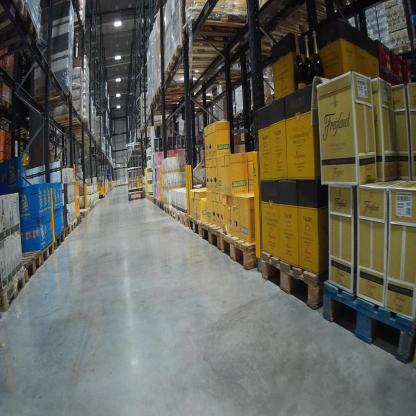pallet: (323, 275, 415, 367), (259, 243, 347, 301), (1, 94, 90, 133), (221, 226, 272, 273), (0, 5, 42, 60), (177, 13, 246, 46), (162, 53, 225, 77), (172, 37, 222, 63), (1, 268, 25, 322), (202, 217, 237, 254), (33, 88, 76, 116), (17, 246, 42, 286), (188, 211, 217, 239), (204, 68, 244, 87), (152, 90, 204, 104), (1, 1, 25, 31), (154, 83, 201, 97), (147, 100, 194, 111), (38, 238, 55, 266), (56, 114, 84, 130), (388, 37, 412, 55), (177, 206, 193, 226), (53, 229, 66, 253), (72, 19, 88, 36), (191, 95, 212, 107), (168, 202, 177, 220), (164, 199, 173, 216), (76, 209, 88, 221), (63, 223, 71, 240), (70, 219, 78, 231), (76, 212, 82, 226), (159, 199, 164, 214), (151, 196, 156, 207), (156, 196, 160, 207)
